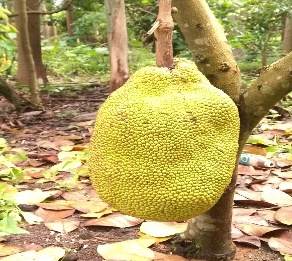Mit: (85, 51, 237, 216)
